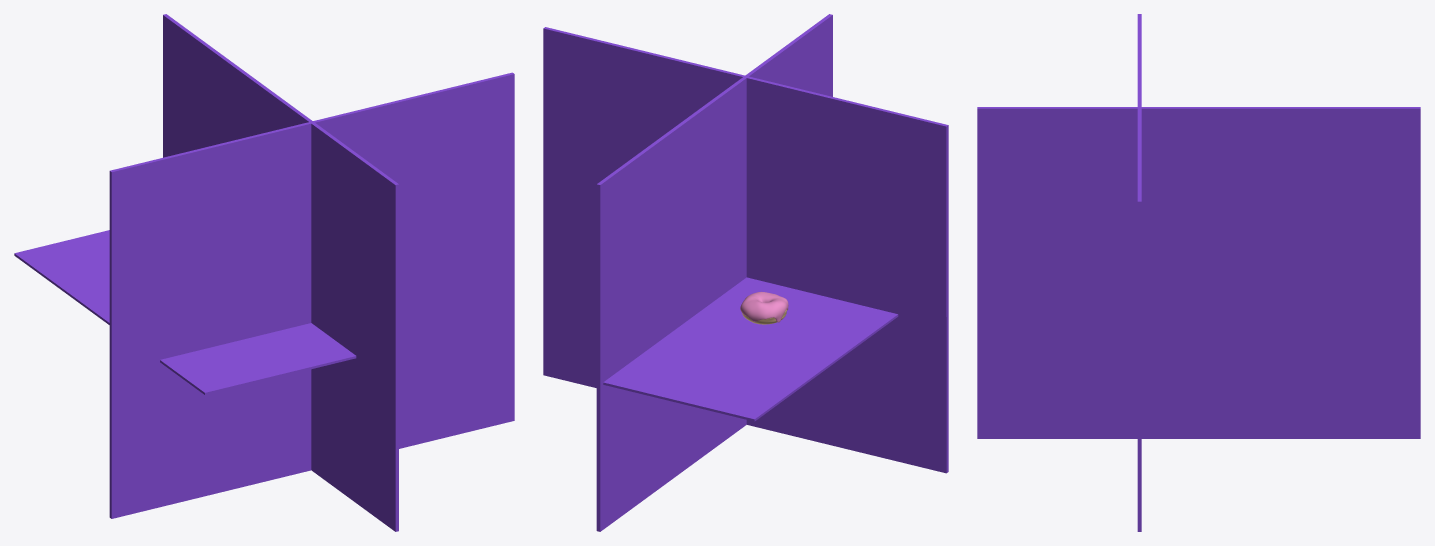
File: Blendnut.fbx
The picture shows the model from 3 angles, left to right: view 1: azimuth 30°, elevation 25°; view 2: azimuth 150°, elevation 25°; view 3: azimuth 270°, elevation 25°; orthographic projection. The views are drawn at different scales.
Visible parts, largest first — view 1: Cube.001, Cube.002, Cube; view 2: Cube.001, Cube.002, Cube, Icing; view 3: Cube.002, Cube.001.
Part boxes in pixels (bbox=[...]): Cube.001: bbox=[109, 72, 514, 518]; Cube.002: bbox=[163, 14, 398, 531]; Cube: bbox=[14, 230, 356, 394]; Cube.001: bbox=[543, 27, 948, 473]; Cube.002: bbox=[596, 14, 832, 531]; Cube: bbox=[603, 277, 898, 421]; Icing: bbox=[740, 291, 788, 322]; Cube.002: bbox=[977, 107, 1420, 438]; Cube.001: bbox=[1137, 14, 1141, 531].
Size of the model in its own units: 1114 by 916 by 1114.
